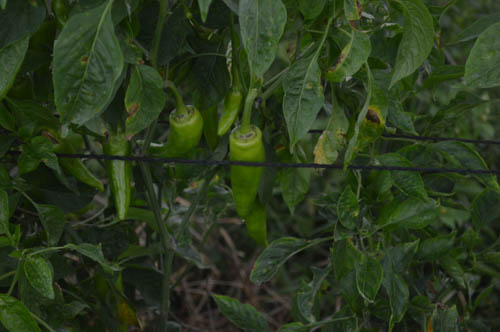ChiliPepper: (230, 131, 267, 214), (103, 136, 138, 219), (153, 112, 200, 161), (213, 90, 242, 142), (245, 202, 268, 243)
